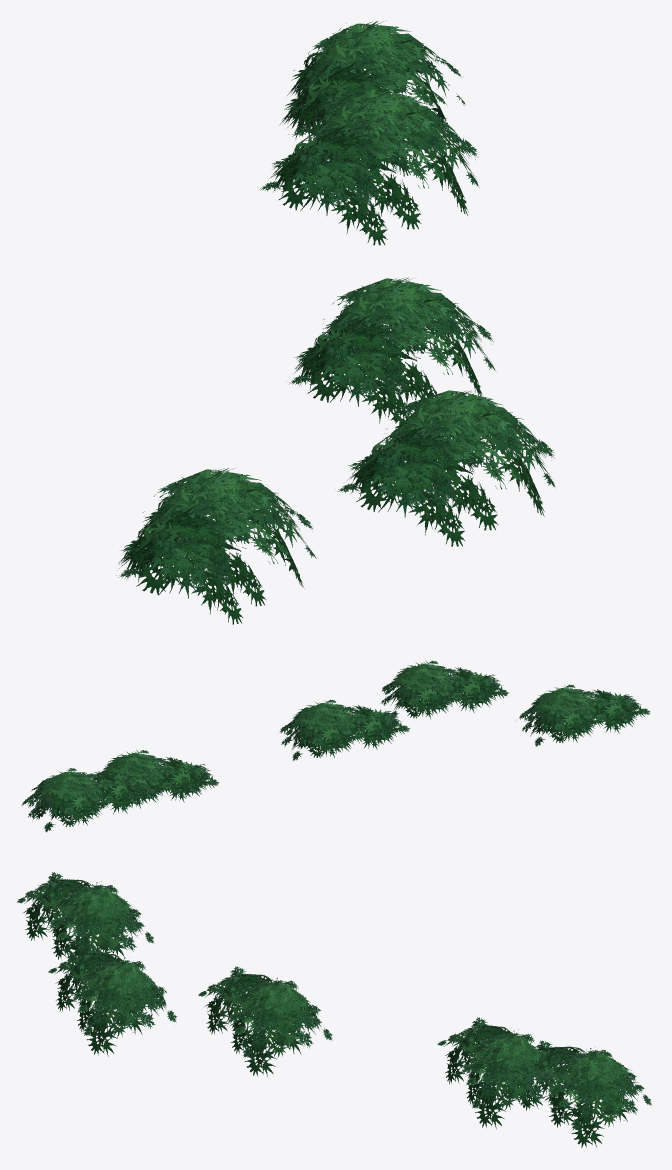
The model's file is Area_11_34.fbx.
3 renders of one model, top to bottom at view 1: azimuth 30°, elevation 25°; view 2: azimuth 150°, elevation 25°; view 3: azimuth 270°, elevation 25°, orthographic. The views are drawn at different scales.
Parts seen in each view (by area): view 1: Area_11_34; view 2: Area_11_34; view 3: Area_11_34.
Boxes of the visible parts, x1,y1,x2,y2 form: Area_11_34: (116,20,555,624); Area_11_34: (21,660,650,832); Area_11_34: (17,872,651,1147).
Size of the model in its own units: 2712 by 435 by 3149.
